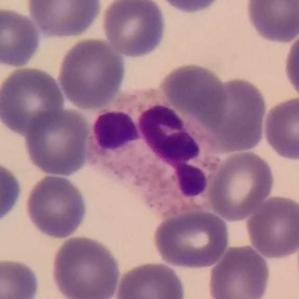Neutrophil: (84, 83, 221, 219)
RBC: (198, 75, 270, 153), (57, 36, 128, 110), (207, 148, 276, 222), (22, 106, 92, 178), (151, 208, 232, 270), (48, 233, 122, 299), (0, 64, 66, 136), (22, 173, 89, 240), (158, 61, 229, 120), (99, 0, 167, 59), (206, 242, 272, 299), (244, 193, 299, 260), (25, 0, 104, 40), (114, 259, 188, 299), (0, 5, 42, 69), (260, 94, 299, 161), (243, 0, 299, 45), (0, 255, 42, 299), (0, 158, 24, 226), (281, 26, 299, 101), (153, 0, 224, 15)
